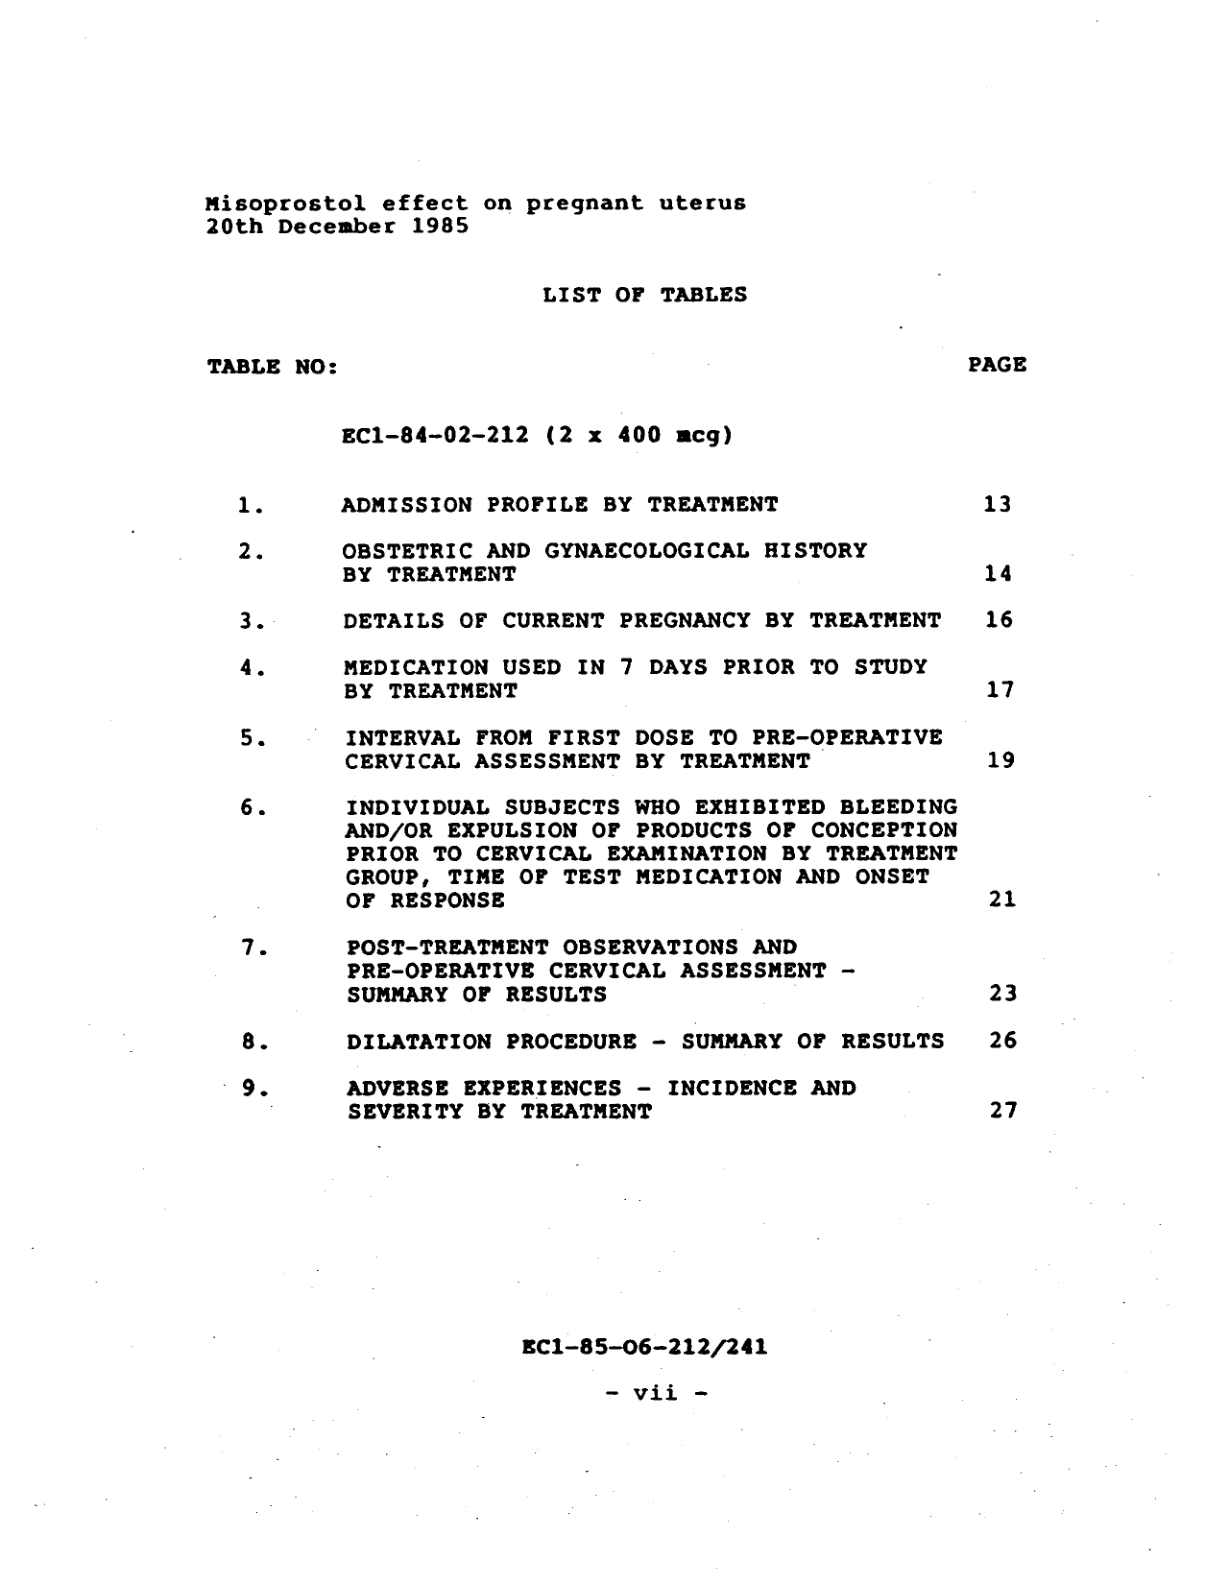nolines: (204, 354, 1029, 1122)
